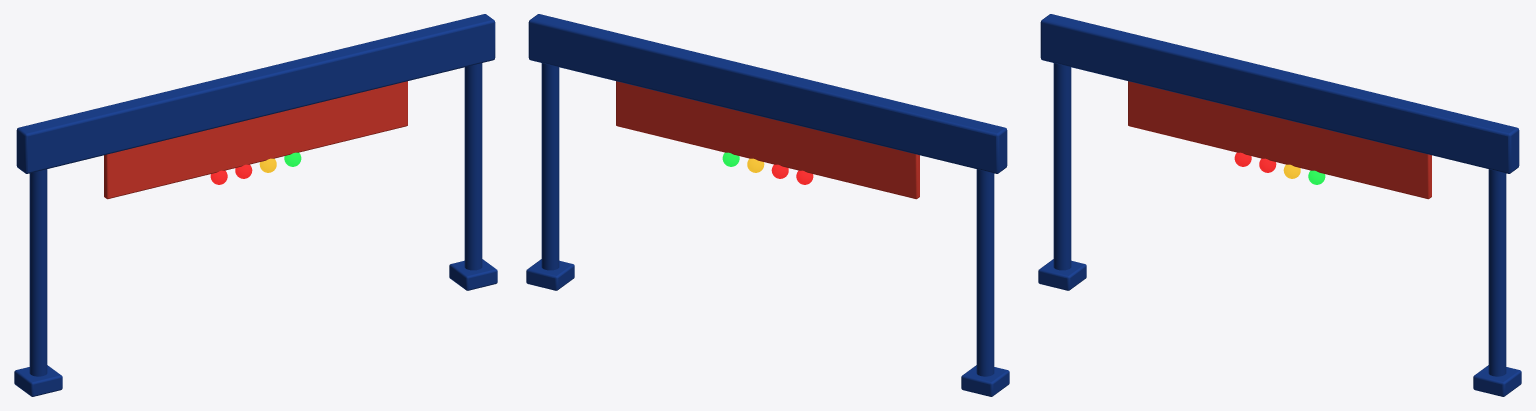
File: start_gantry.glb
The picture shows the model from 3 angles, left to right: view 1: azimuth 30°, elevation 25°; view 2: azimuth 150°, elevation 25°; view 3: azimuth 330°, elevation 25°; orthographic projection.
Parts seen in each view (by area): view 1: Beam, Banner, Post, Post.001, PostBase, PostBase.001; view 2: Beam, Banner, Post, Post.001, PostBase, PostBase.001; view 3: Beam, Banner, Post.001, Post, PostBase.001, PostBase.
Boxes of the visible parts, left/top/right/bottom form: Beam: left=16, top=14, right=495, bottom=173; Banner: left=104, top=81, right=407, bottom=199; Post: left=29, top=169, right=47, bottom=376; Post.001: left=464, top=63, right=482, bottom=270; PostBase: left=14, top=365, right=62, bottom=396; PostBase.001: left=449, top=259, right=497, bottom=290; Beam: left=528, top=14, right=1007, bottom=173; Banner: left=616, top=81, right=919, bottom=199; Post: left=976, top=169, right=994, bottom=376; Post.001: left=541, top=63, right=559, bottom=270; PostBase: left=961, top=365, right=1009, bottom=396; PostBase.001: left=526, top=259, right=574, bottom=290; Beam: left=1040, top=14, right=1519, bottom=173; Banner: left=1128, top=81, right=1431, bottom=199; Post.001: left=1488, top=169, right=1506, bottom=376; Post: left=1053, top=63, right=1071, bottom=270; PostBase.001: left=1473, top=365, right=1521, bottom=396; PostBase: left=1038, top=259, right=1086, bottom=290.
Bounding box in the file's own units: 13.4 × 7.1 × 0.9.
